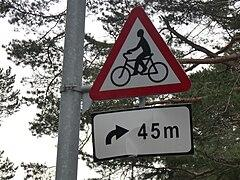Cycle Crossing: (93, 7, 190, 92)
